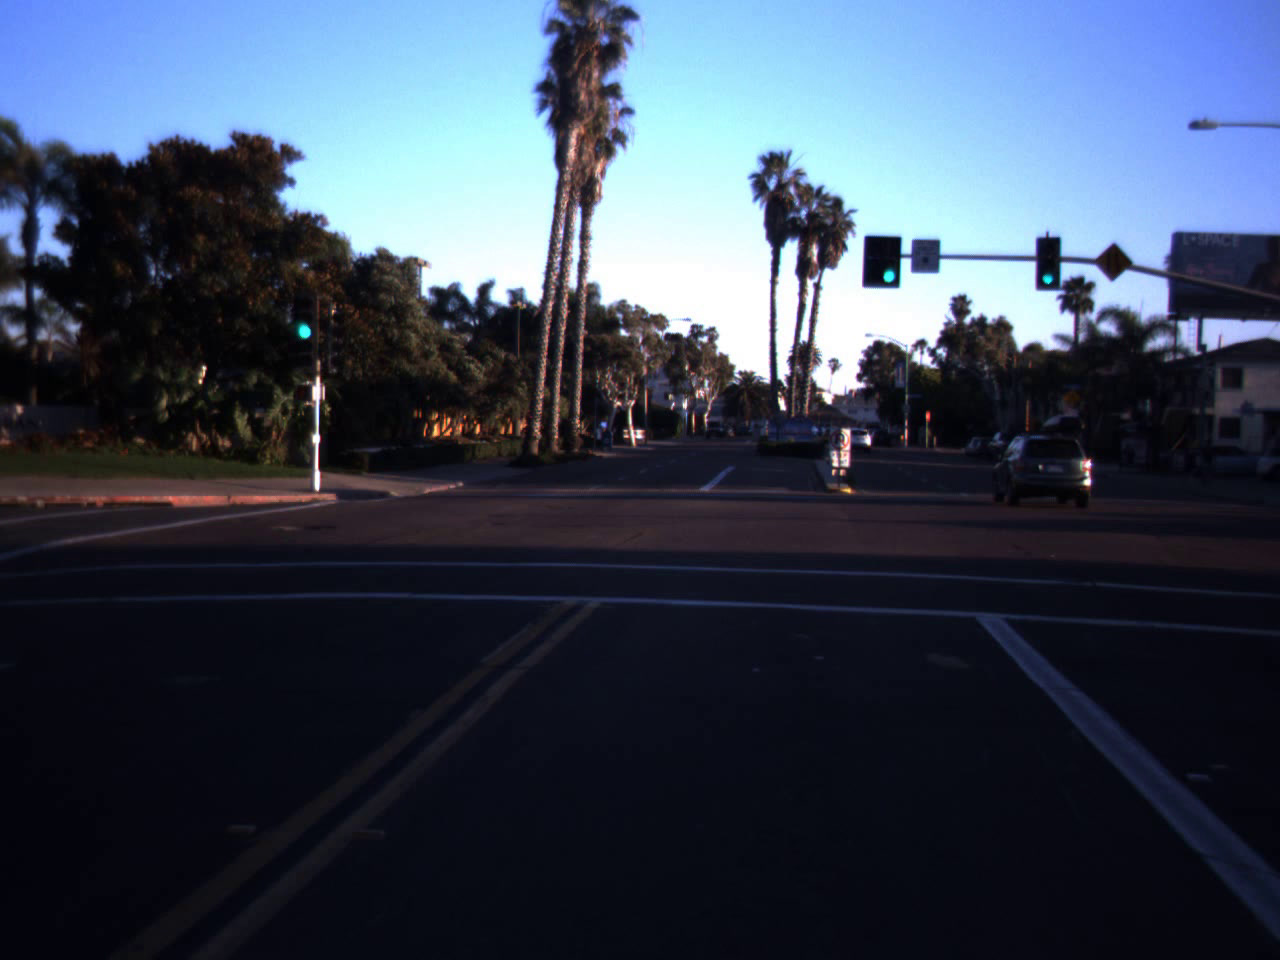go: (290, 284, 321, 344), (874, 237, 904, 287), (1036, 248, 1060, 288)
